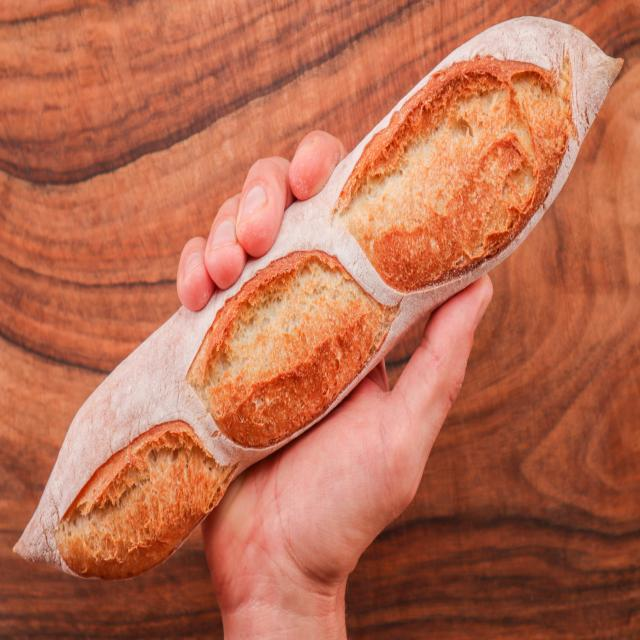Baguette: (19, 17, 623, 579)
